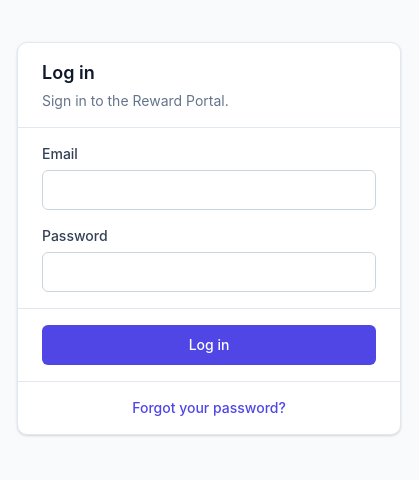
Test: LoginPage › TC-3/TC-4: an unknown email and a locked account render byte-identical output to TC-2
Type "unknown@example.com" into the field labelled "Email" at [209, 190], box x1=42 y1=170 x2=376 y2=210
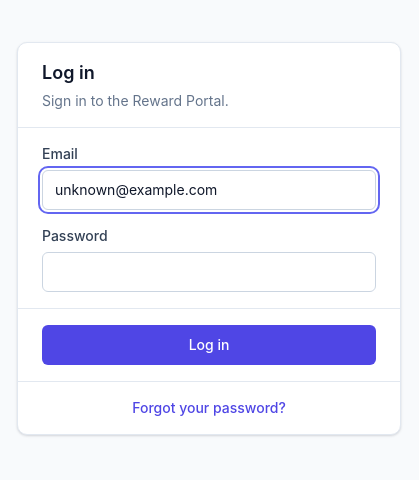
Type "whatever1!" into the password field labelled "Password" at [209, 272], box x1=42 y1=252 x2=376 y2=292
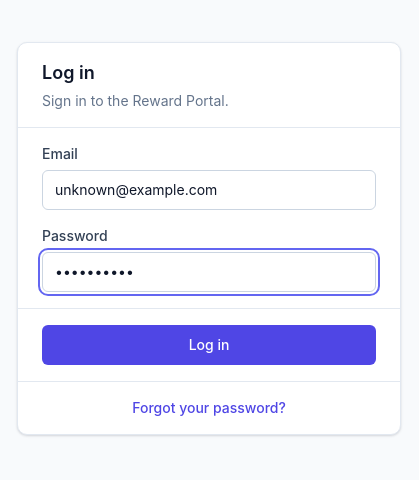
Click the button "Log in" at [209, 344], box x1=42 y1=324 x2=376 y2=364
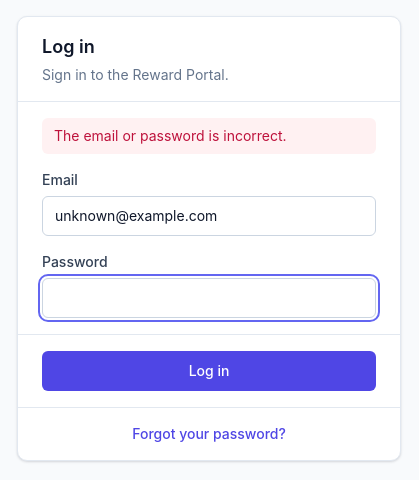
Now the message reads "The email or password is incorrect.", box x1=54 y1=126 x2=287 y2=144
